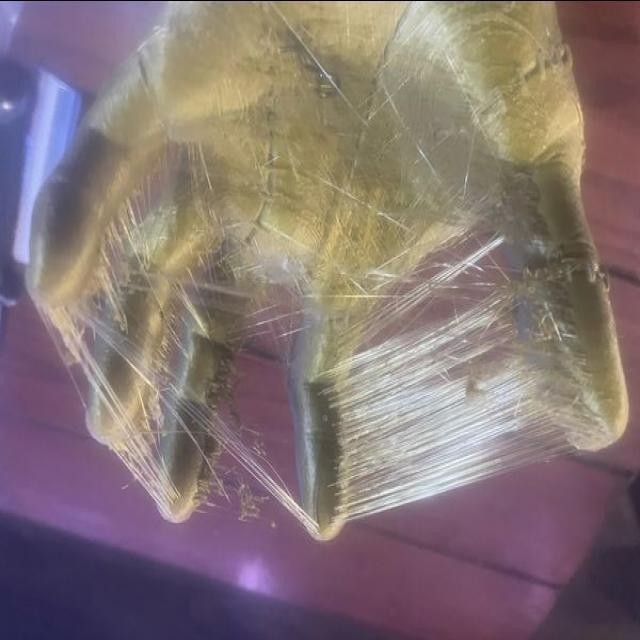stringing: (195, 416, 319, 543), (70, 299, 170, 405), (97, 184, 162, 317), (61, 333, 131, 425), (468, 377, 536, 469), (400, 412, 470, 494), (112, 426, 173, 511), (347, 358, 405, 446), (346, 433, 409, 510), (395, 336, 446, 422), (532, 386, 590, 453), (448, 312, 498, 388), (365, 296, 418, 334), (449, 242, 491, 278), (404, 272, 444, 306)
